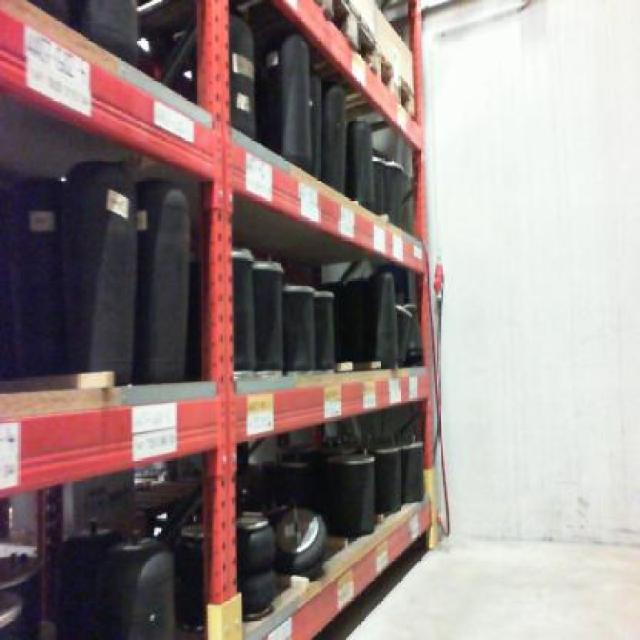ground: (313, 534, 638, 638)
pallet: (309, 0, 381, 71), (373, 41, 424, 120)
